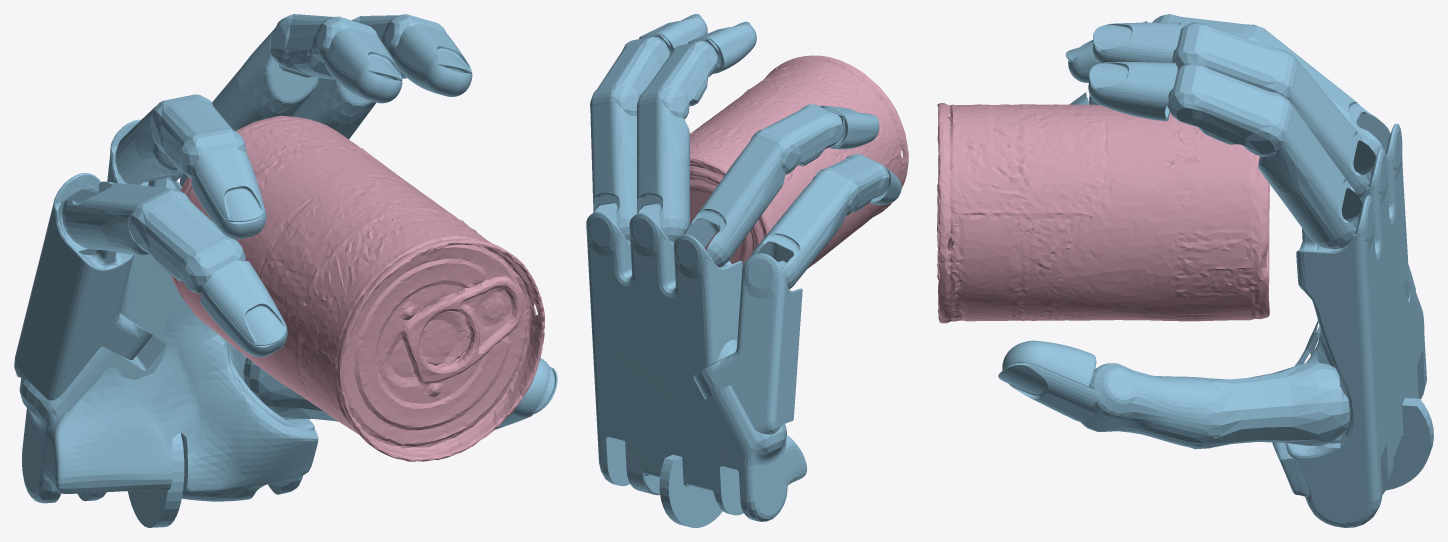
3 views of the same model, side by side, from view 1: azimuth 30°, elevation 25°; view 2: azimuth 150°, elevation 25°; view 3: azimuth 270°, elevation 25° (orthographic). The views are drawn at different scales.
Parts seen in each view (by area): view 1: world, tomato_soup_can.stl; view 2: world, tomato_soup_can.stl; view 3: world, tomato_soup_can.stl.
Part boxes in pixels (left/top/right/bottom): world: left=14, top=14, right=557, bottom=527; tomato_soup_can.stl: left=171, top=115, right=544, bottom=461; world: left=586, top=14, right=901, bottom=527; tomato_soup_can.stl: left=690, top=55, right=908, bottom=268; world: left=998, top=14, right=1433, bottom=527; tomato_soup_can.stl: left=937, top=103, right=1269, bottom=323.
Size of the model in its own units: 0.1094 by 0.1715 by 0.1521.
